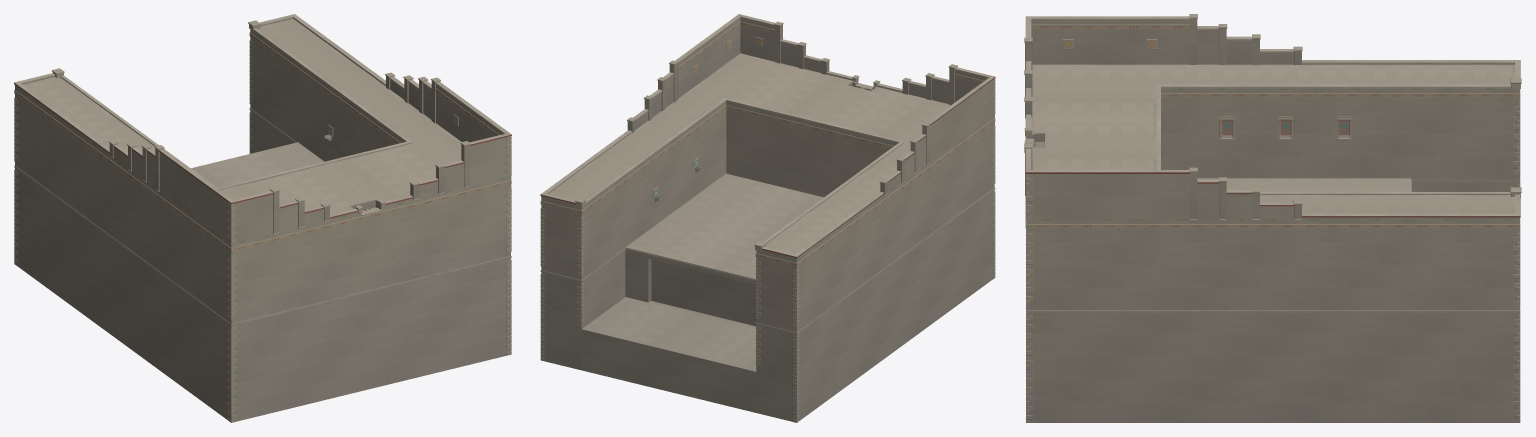
The model's file is court_platform.glb.
3 views of the same model, side by side, from view 1: azimuth 30°, elevation 25°; view 2: azimuth 150°, elevation 25°; view 3: azimuth 270°, elevation 25° (orthographic). The views are drawn at different scales.
Visible parts, largest first — view 1: court_platform; view 2: court_platform; view 3: court_platform.
Boxes of the visible parts, x1,y1,x2,y2 form: court_platform: (14, 14, 511, 422); court_platform: (540, 14, 995, 422); court_platform: (1024, 14, 1521, 422).
Bounding box in the file's own units: 88.9 × 66.65 × 119.
1 material, 1 textured.
